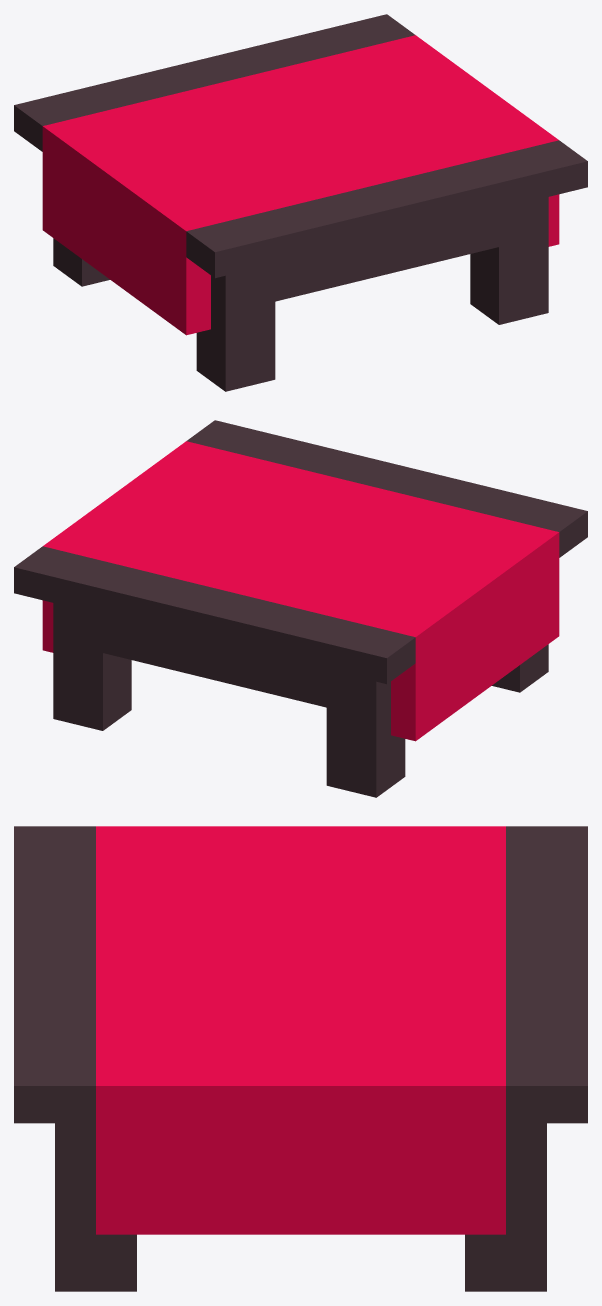
File: small_table_c_red.obj
The picture shows the model from 3 angles, top to bottom: view 1: azimuth 30°, elevation 25°; view 2: azimuth 150°, elevation 25°; view 3: azimuth 270°, elevation 25°; orthographic projection. The views are drawn at different scales.
Bounding box in the file's own units: 1.5 × 0.6 × 1.4.
1 material, 1 textured.
